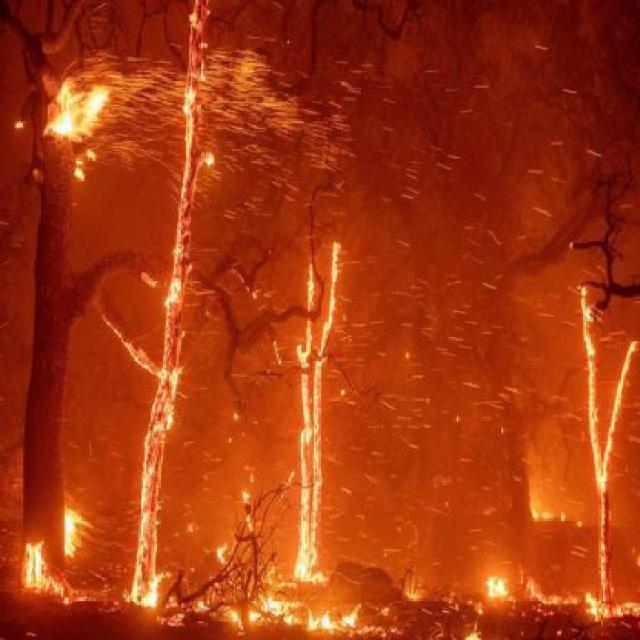Fire: (116, 3, 236, 602), (278, 223, 347, 597), (574, 280, 636, 634), (32, 45, 132, 173), (245, 600, 405, 637), (16, 540, 68, 605), (524, 580, 576, 609), (64, 508, 92, 558), (66, 583, 116, 605), (485, 574, 514, 600), (460, 624, 491, 640)
